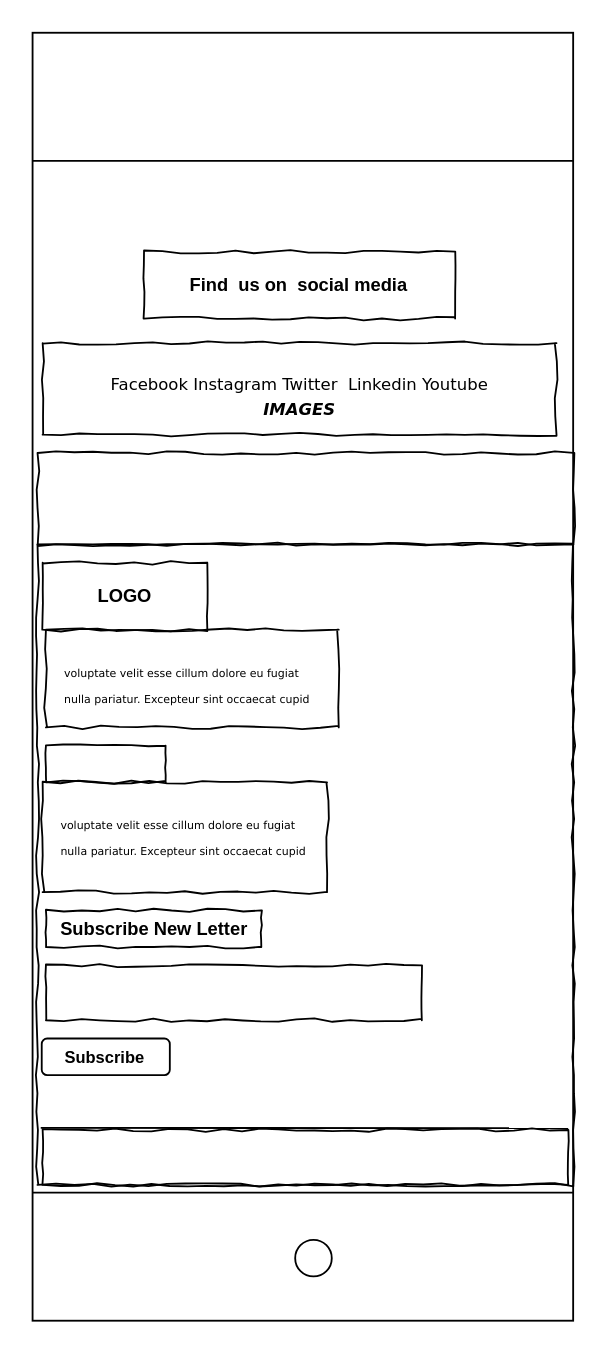
The diagram is 606 pixels wide and 1352 high, and some of its shapes have lost their labels. The centre of each missing label's shape, as x and y in pixels:
"Contact" goes at pixel 105 763.
"Enter Email" goes at pixel 233 991.
"Website created by Algorithms corporation" goes at pixel 304 1156.
